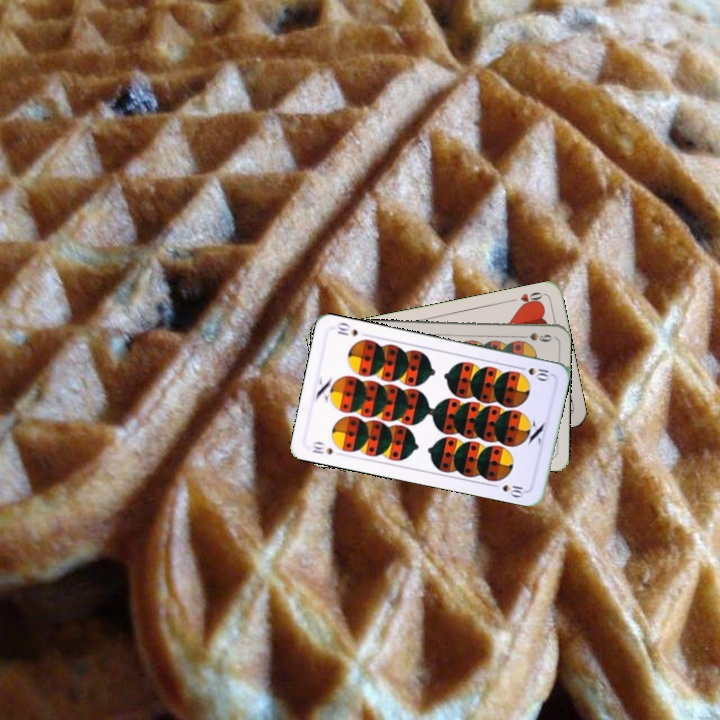HO: (506, 288, 546, 310)
S10: (514, 362, 554, 383), (308, 438, 335, 457)
S9: (514, 329, 554, 345)
